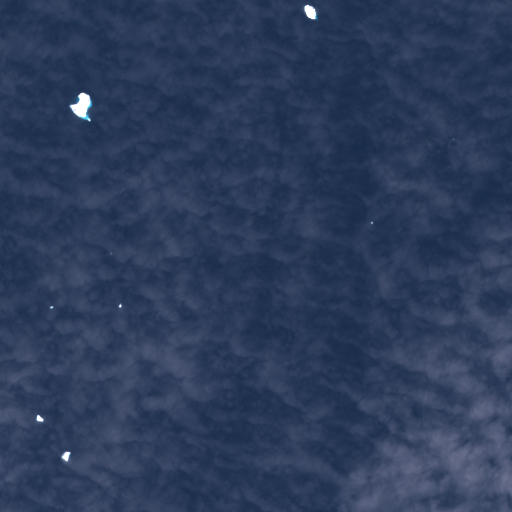Iceberg: (68, 92, 92, 121), (304, 4, 317, 20), (61, 451, 70, 461), (36, 414, 43, 421), (118, 303, 122, 307), (49, 305, 53, 308), (370, 221, 373, 224), (452, 138, 454, 140), (110, 252, 112, 254)
